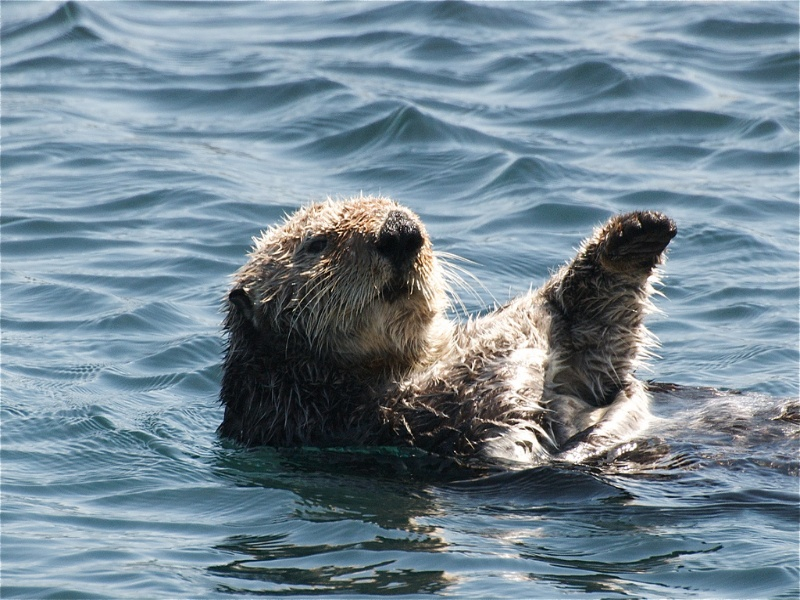minkish: (200, 190, 722, 477)
